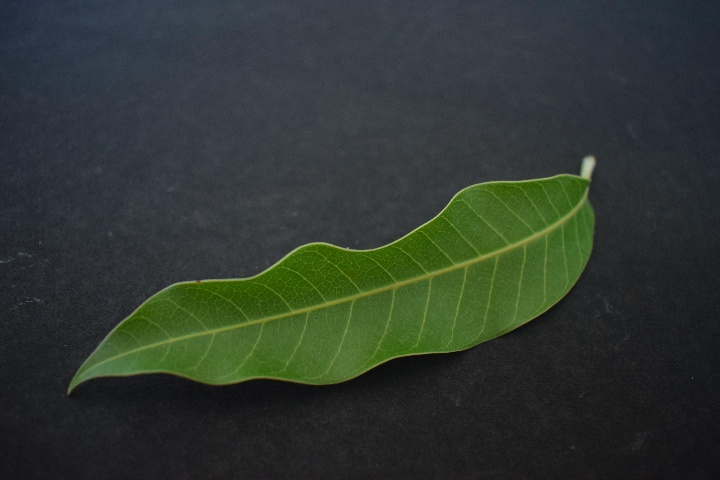healthy: (63, 177, 617, 381)
